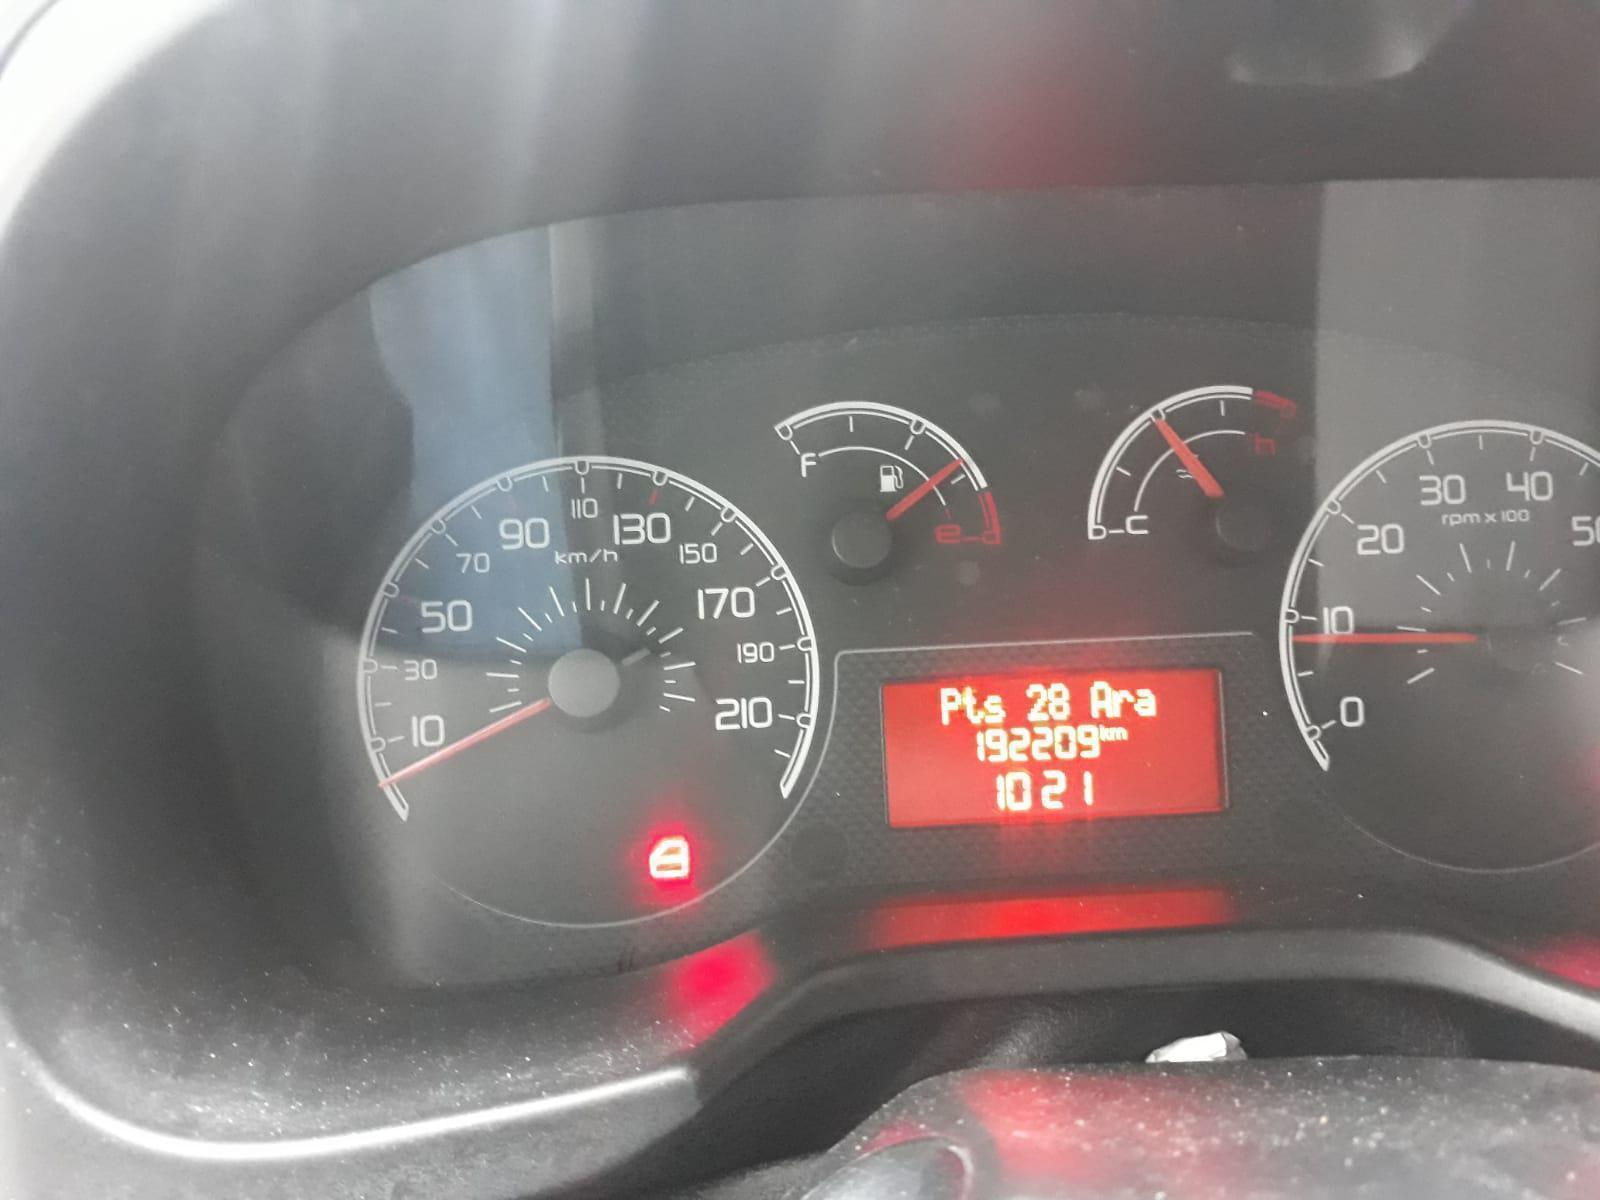0: (1004, 769, 1036, 813), (1054, 724, 1077, 759)
1: (1081, 768, 1095, 809), (993, 770, 1005, 813), (973, 729, 986, 764)
2: (1041, 769, 1068, 811), (1026, 683, 1049, 722), (1009, 726, 1029, 763), (1031, 726, 1052, 760)
8: (1048, 682, 1073, 721)
9: (1077, 722, 1100, 760), (985, 726, 1008, 763)
X: (939, 684, 963, 727), (1089, 679, 1112, 718), (963, 686, 985, 725), (981, 691, 1007, 724), (1135, 687, 1157, 716), (1112, 689, 1133, 718), (1110, 726, 1128, 742), (1097, 724, 1110, 740)
odometer: (878, 667, 1230, 824)
